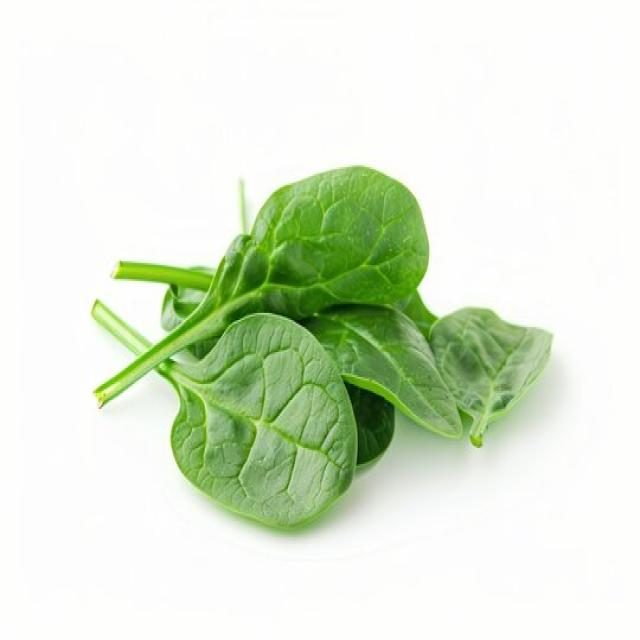Radish: (91, 163, 430, 409)
Spinach: (90, 162, 554, 530)
